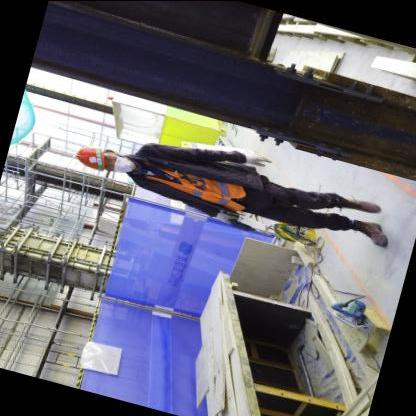safety-shoe: (344, 214, 396, 250), (334, 188, 389, 219)
